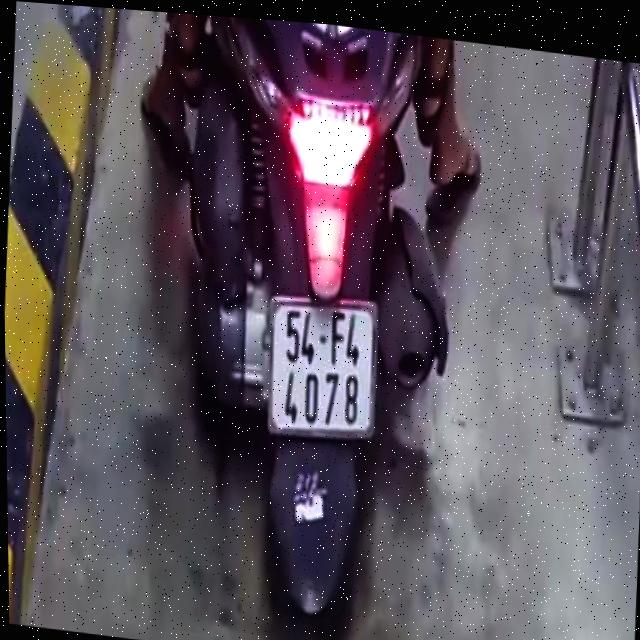motorcycle: (152, 11, 473, 640)
plate: (257, 290, 384, 450)
